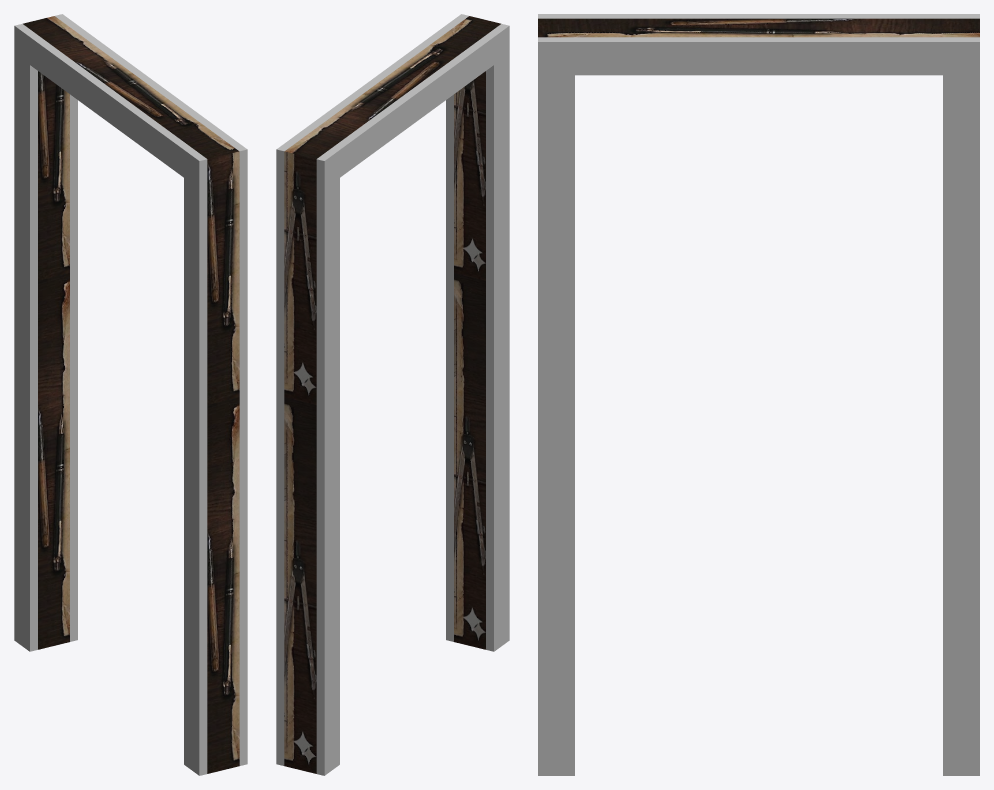
Rendered from Marco_Puerta_Interior.fbx.
3 renders of one model, left to right at view 1: azimuth 30°, elevation 25°; view 2: azimuth 150°, elevation 25°; view 3: azimuth 270°, elevation 25°, orthographic. The views are drawn at different scales.
Visible parts, largest first — view 1: Marco_Puerta_Interior; view 2: Marco_Puerta_Interior; view 3: Marco_Puerta_Interior.
Boxes of the visible parts, box(x1,y1,x2,y2) form: Marco_Puerta_Interior: box(14, 14, 247, 775); Marco_Puerta_Interior: box(276, 14, 509, 775); Marco_Puerta_Interior: box(538, 14, 979, 775).
Size of what is drawn, in the model's own units: 7.09 by 86.61 by 47.24.
